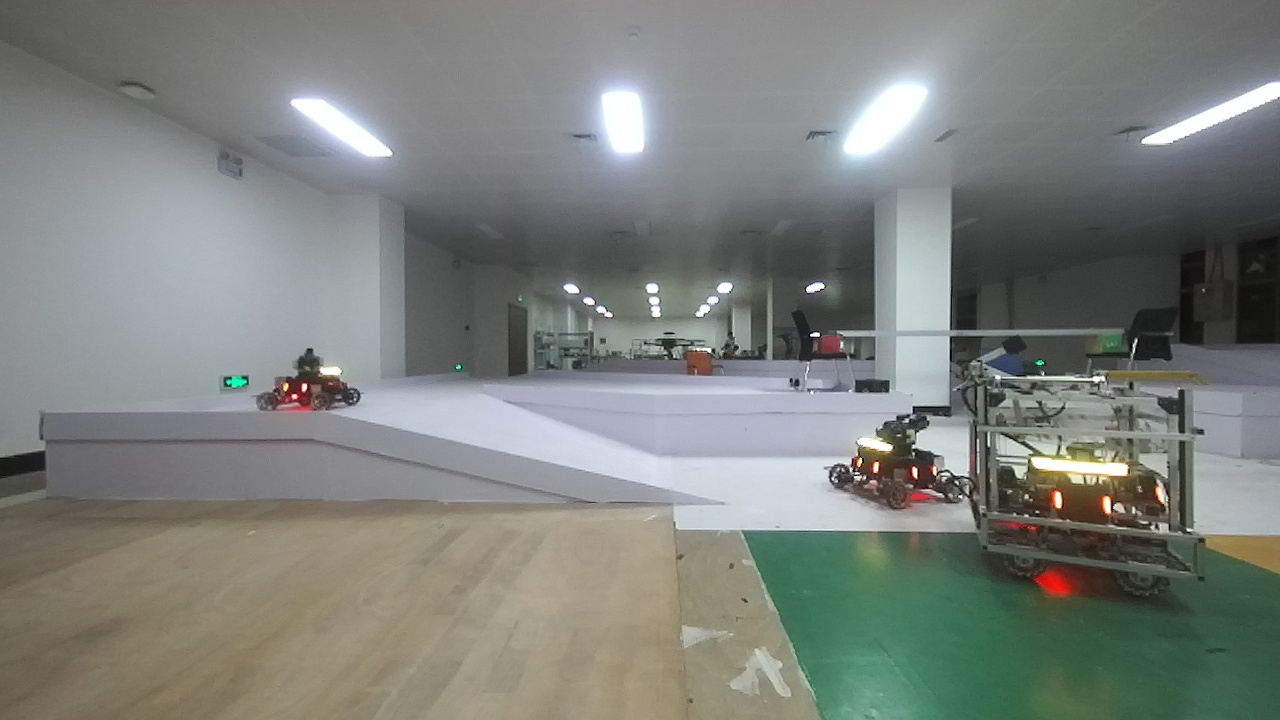car: (950, 360, 1211, 609), (830, 408, 961, 518), (255, 330, 386, 434)
